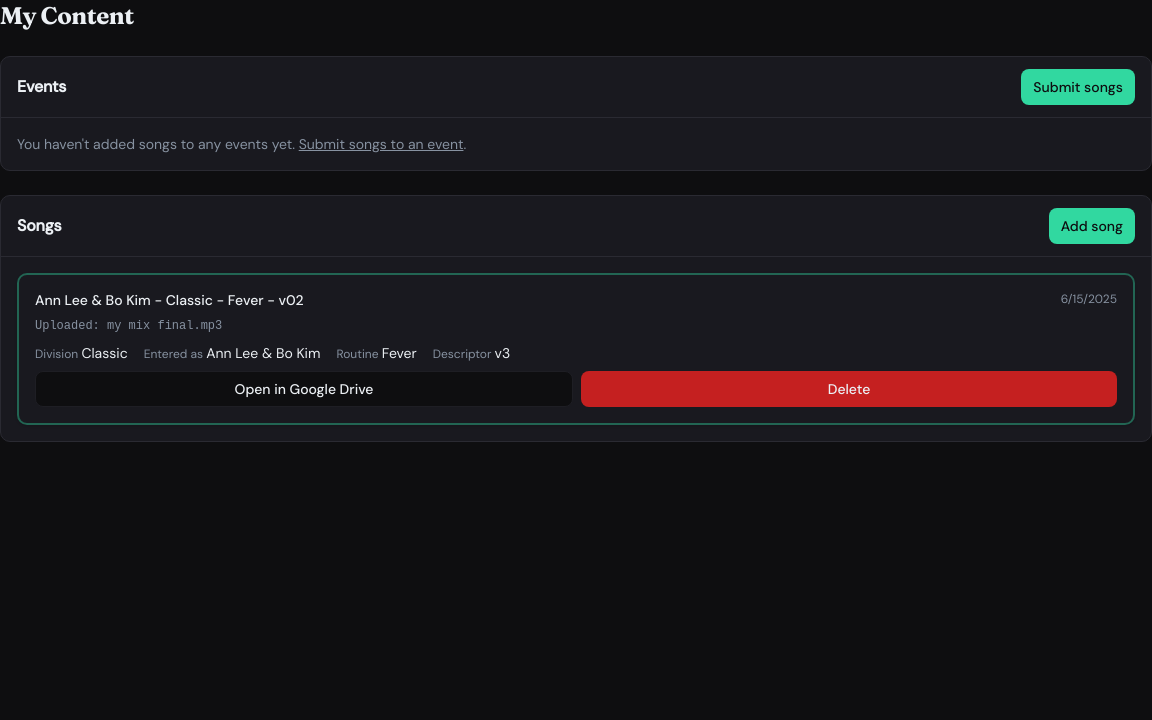
Test case: MyContentPage — Songs section › deletes a song after confirming
Click the button "Delete" at coordinates (849, 389), box [581,371,1117,407]
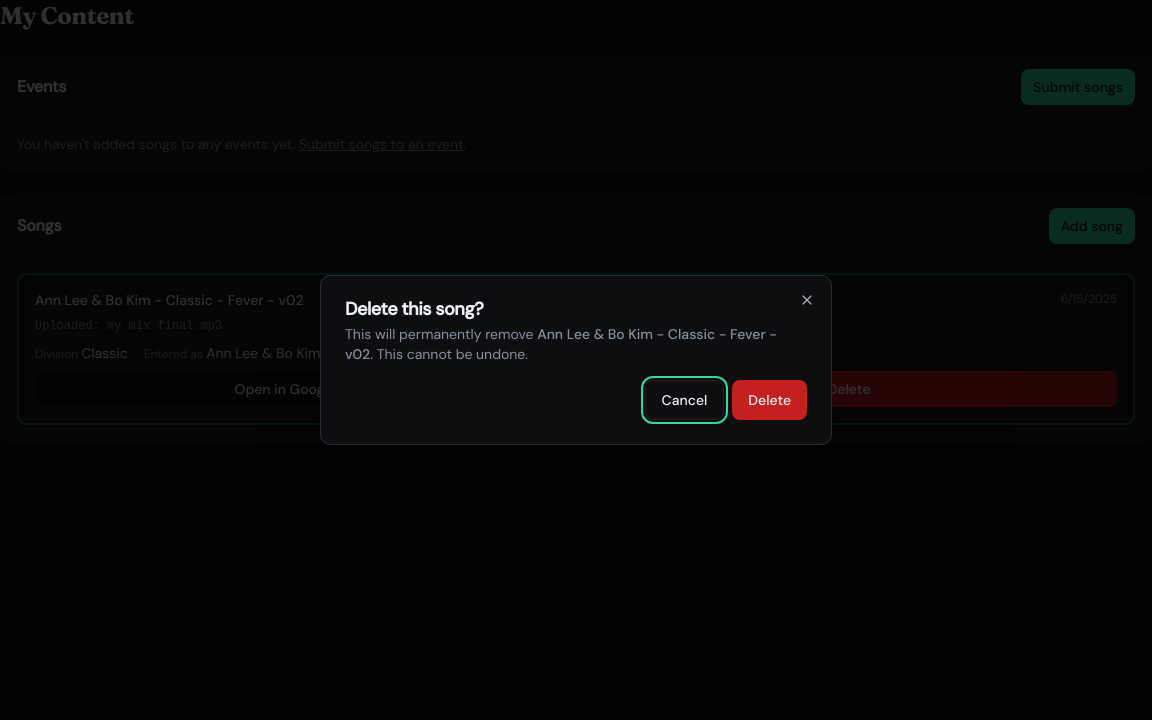
Check: the dialog shows "This will permanently remove Ann Lee & Bo Kim - Classic - Fever - v02.", box [320,275,832,445]
Click the button "Delete" at coordinates (770, 400), box [732,380,807,420]
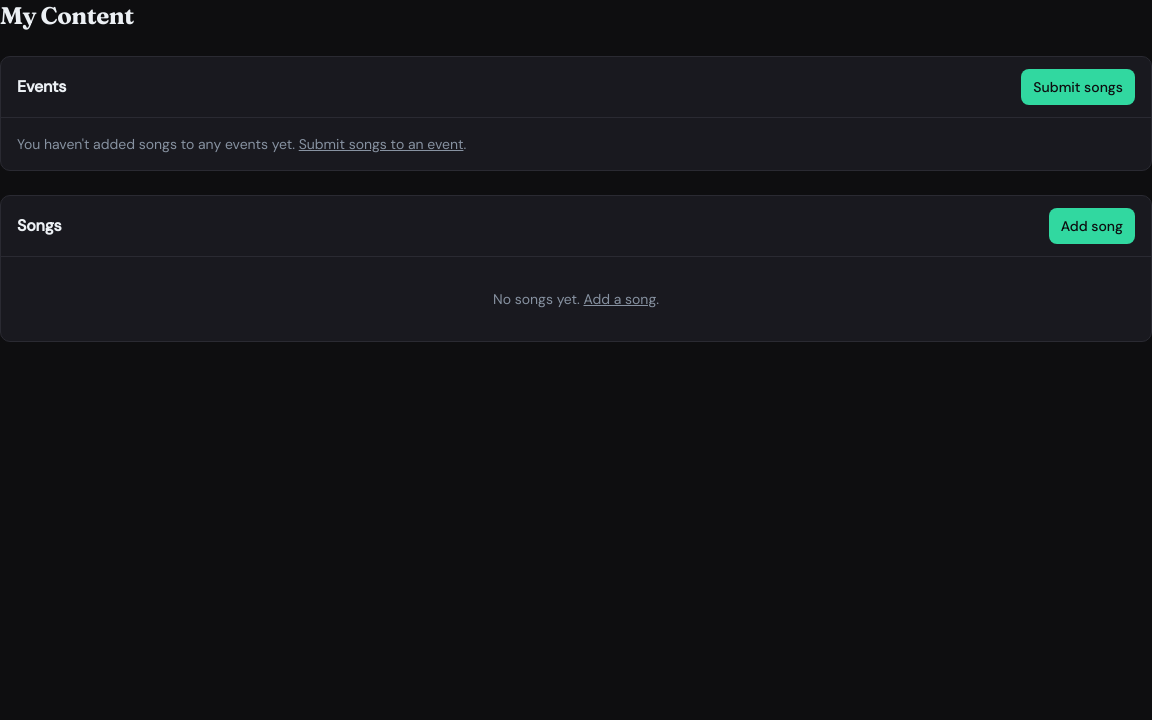
Check: the text "No songs yet. Add a song ." is shown, box [493,290,659,308]
